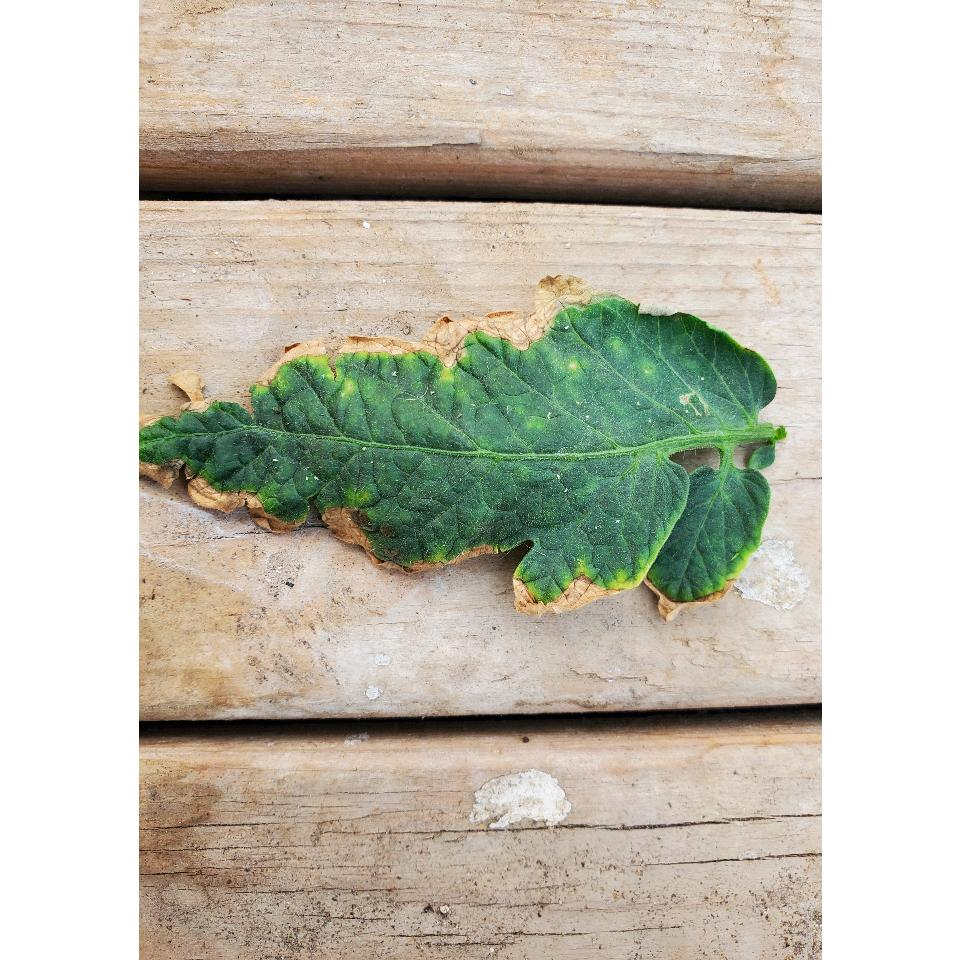tomato_bacterial_blight: (141, 282, 822, 632)
